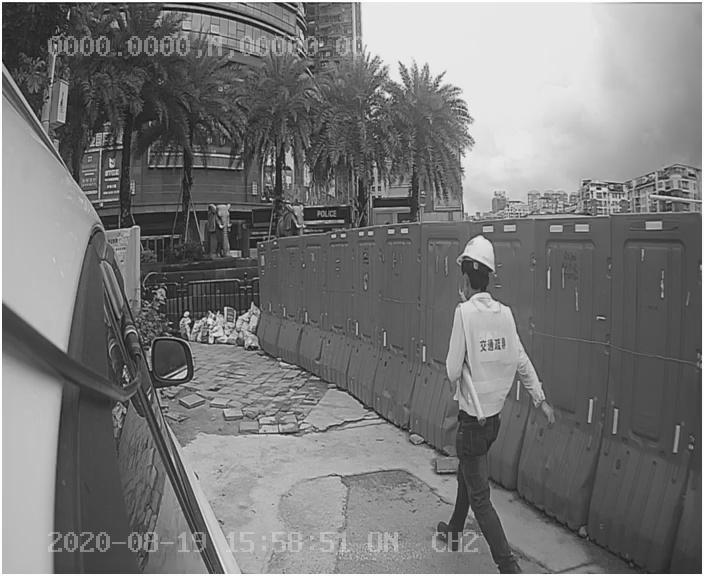person: (427, 232, 560, 532)
